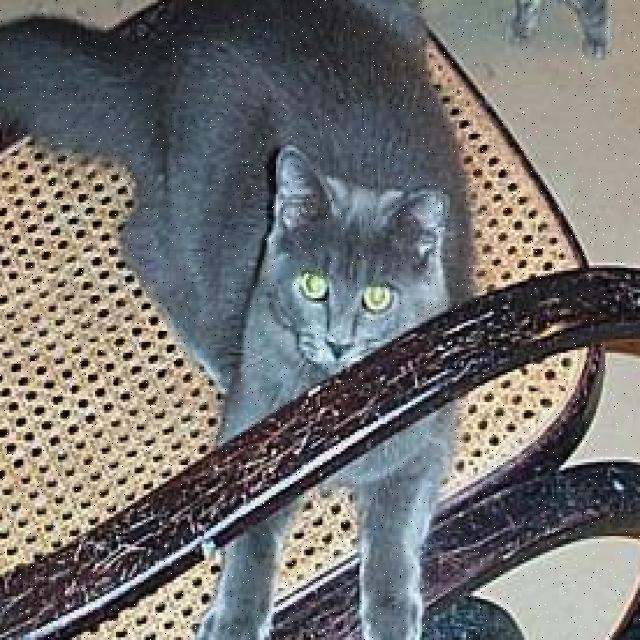Cat: (226, 155, 467, 391)
